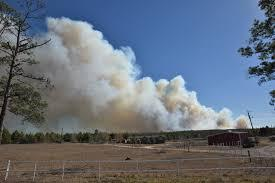smoke: (51, 18, 249, 128)
